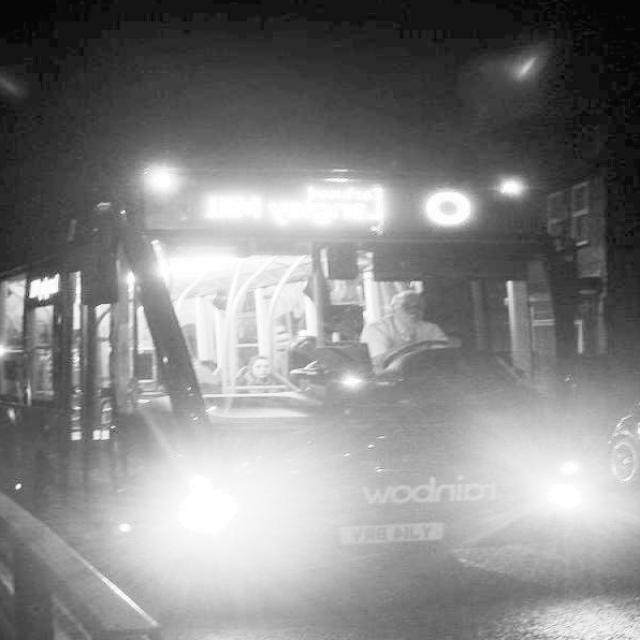Bus: (1, 89, 620, 568)
